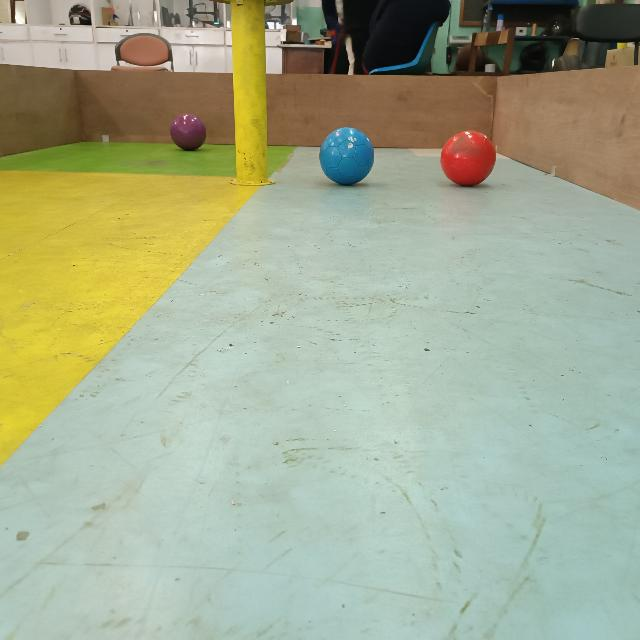B: (318, 126, 376, 188)
P: (170, 112, 207, 152)
R: (440, 129, 498, 187)
